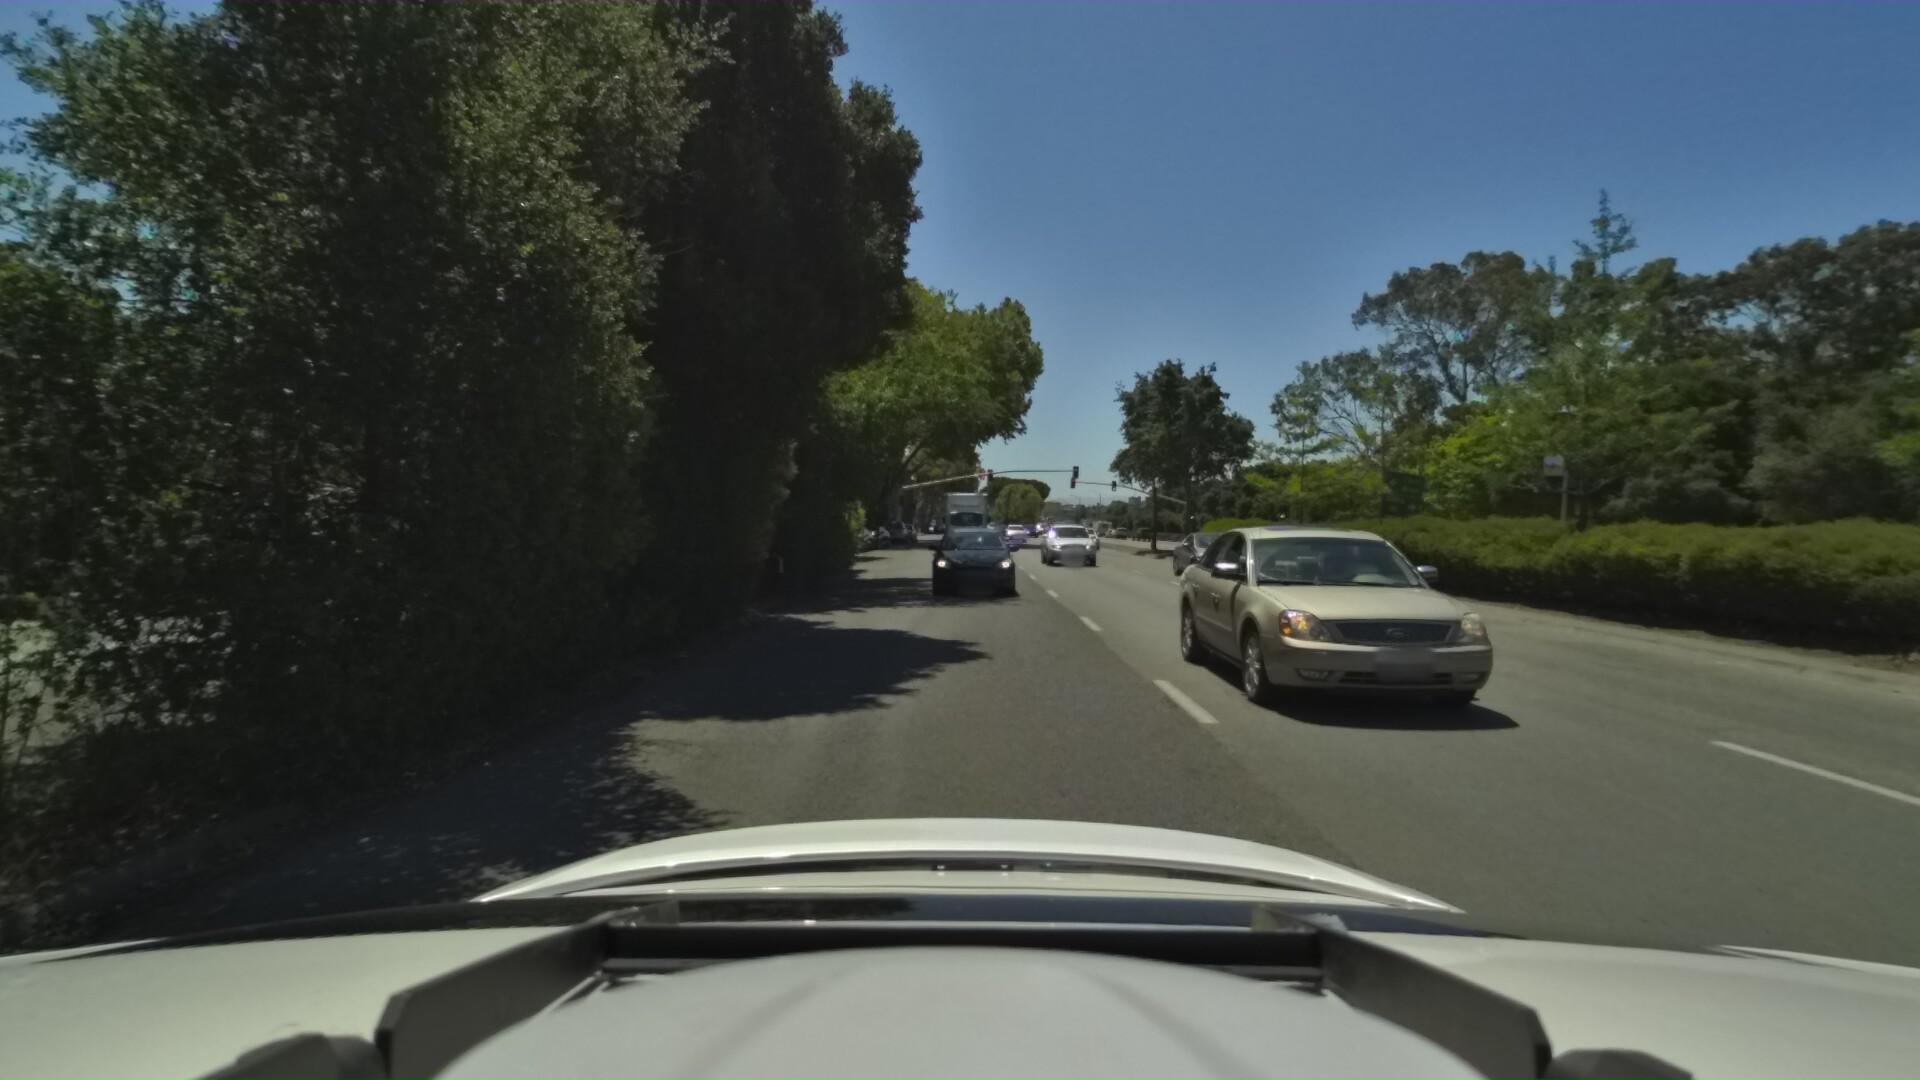car: (1139, 512, 1456, 708), (926, 524, 1015, 603), (1160, 527, 1251, 584), (1034, 517, 1092, 564), (829, 524, 876, 553), (847, 522, 893, 549), (1075, 524, 1113, 550), (877, 520, 909, 543), (889, 521, 916, 542), (1002, 522, 1027, 543)
truck: (939, 477, 992, 542)
